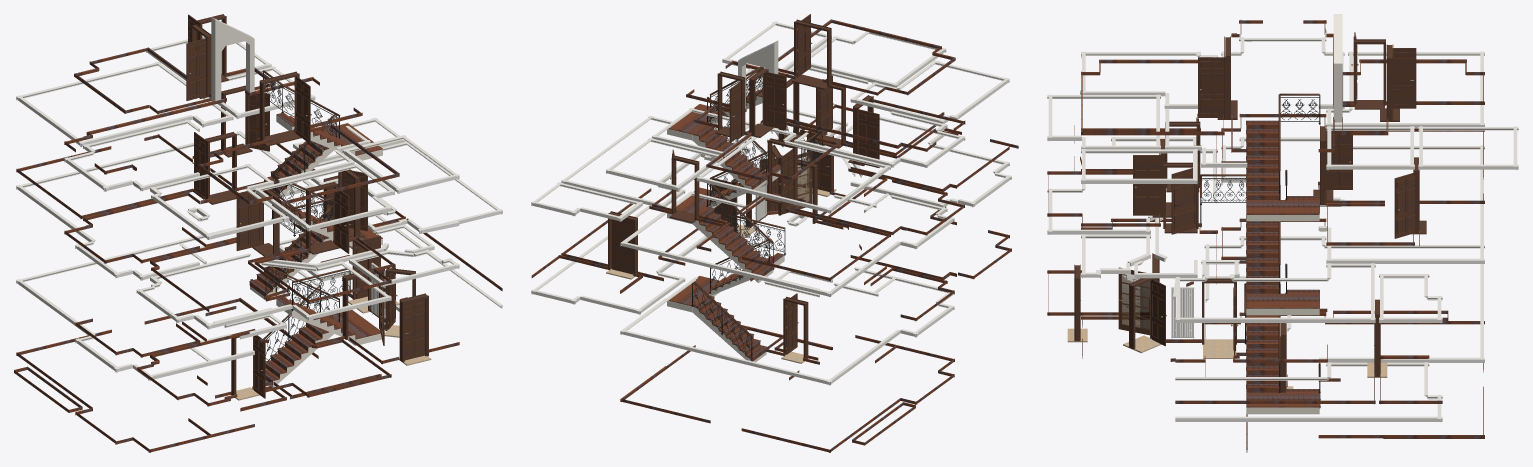
The model's file is EKLER.glb.
3 renders of one model, left to right at view 1: azimuth 30°, elevation 25°; view 2: azimuth 150°, elevation 25°; view 3: azimuth 270°, elevation 25°, orthographic. The views are drawn at different scales.
Visible parts, largest first — view 1: M3C_kapi_ustu, M1_kartonpiyer_211, M2_K0_sahanlik, M3C_sol_yan, M1_kartonpiyer_071, M3_02_kanat, M1_kartonpiyer_255, M1_kartonpiyer_256, M3_07_kanat, M1_kartonpiyer_258, M3_13_kanat, M1_supurgelik_189 (+3 smaller); view 2: M1_kartonpiyer_211, M3_11_kanat, M1_kartonpiyer_255, M1_kartonpiyer_071, M2_K0_sahanlik, M3C_kapi_ustu, M2_K2_sahanlik, M3_02_kanat; view 3: M1_kartonpiyer_232, M2_K1_sahanlik, M1_kartonpiyer_102, M2_K2_sahanlik, M3G_Floral_cam, M2_K0_sahanlik, M3_03_kanat, M1_kartonpiyer_194, M1_supurgelik_008, M3_05_kanat, M1_kartonpiyer_011, M3_01_kanat (+17 smaller).
Boxes of the visible parts, left/top/right/bottom form: M3C_kapi_ustu: left=211, top=17, right=254, bottom=48; M1_kartonpiyer_211: left=16, top=131, right=240, bottom=189; M2_K0_sahanlik: left=327, top=310, right=380, bottom=339; M3C_sol_yan: left=211, top=45, right=225, bottom=101; M1_kartonpiyer_071: left=16, top=61, right=160, bottom=100; M3_02_kanat: left=186, top=38, right=205, bottom=100; M1_kartonpiyer_255: left=16, top=227, right=235, bottom=283; M1_kartonpiyer_256: left=19, top=226, right=236, bottom=281; M3_07_kanat: left=236, top=190, right=261, bottom=250; M1_kartonpiyer_258: left=148, top=350, right=254, bottom=380; M3_13_kanat: left=405, top=299, right=424, bottom=360; M1_supurgelik_189: left=88, top=98, right=226, bottom=134; M1_kartonpiyer_211: left=622, top=241, right=832, bottom=296; M3_11_kanat: left=611, top=219, right=633, bottom=274; M1_kartonpiyer_255: left=621, top=329, right=832, bottom=385; M1_kartonpiyer_071: left=696, top=176, right=832, bottom=213; M2_K0_sahanlik: left=668, top=276, right=719, bottom=306; M3C_kapi_ustu: left=738, top=40, right=778, bottom=69; M2_K2_sahanlik: left=668, top=104, right=717, bottom=134; M3_02_kanat: left=765, top=72, right=786, bottom=129; M1_kartonpiyer_232: left=1175, top=416, right=1442, bottom=421; M2_K1_sahanlik: left=1246, top=293, right=1319, bottom=308; M1_kartonpiyer_102: left=1175, top=317, right=1375, bottom=322; M2_K2_sahanlik: left=1246, top=200, right=1319, bottom=214; M3G_Floral_cam: left=1121, top=274, right=1149, bottom=329; M2_K0_sahanlik: left=1246, top=392, right=1319, bottom=407; M3_03_kanat: left=1198, top=57, right=1225, bottom=117; M1_kartonpiyer_194: left=1326, top=259, right=1484, bottom=263; M1_supurgelik_008: left=1175, top=400, right=1375, bottom=403; M3_05_kanat: left=1171, top=168, right=1196, bottom=234; M1_kartonpiyer_011: left=1081, top=178, right=1197, bottom=183; M3_01_kanat: left=1392, top=48, right=1416, bottom=108.
Size of the model in its own units: 13.36 by 12.51 by 14.1.
18 materials, 9 textured.
